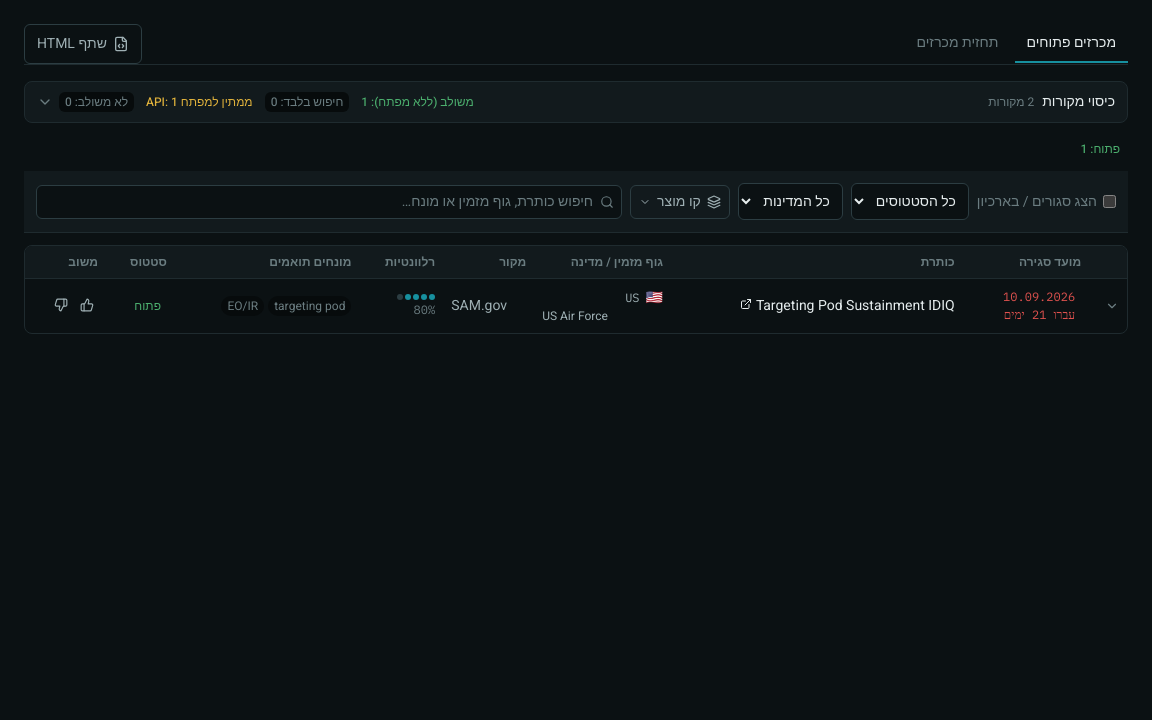
TendersPage — open tenders tab › expands a row on click to show the summary, entities, CPV/NAICS and a link to the linked item
Expected: the text "סיכום בעברית של המכרז" is not shown
Click the text "Targeting Pod Sustainment IDIQ" at (576, 306), box [25,278,1127,333]
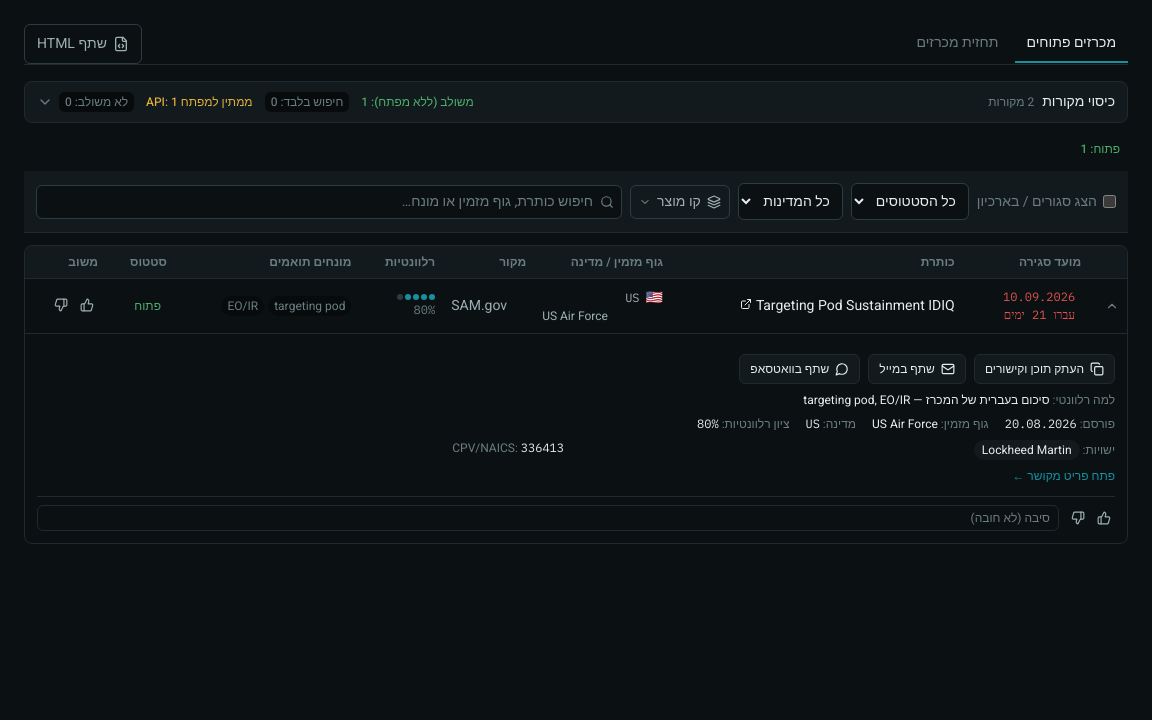
Now the text "targeting pod, EO/IR — סיכום בעברית של המכרז" is shown, box [803,391,1050,409]
Now the text "Lockheed Martin" is shown, box [982,441,1072,459]
Now the text "336413" is shown, box [521,440,564,455]
Click the text "Targeting Pod Sustainment IDIQ" at (576, 306), box [25,278,1127,334]
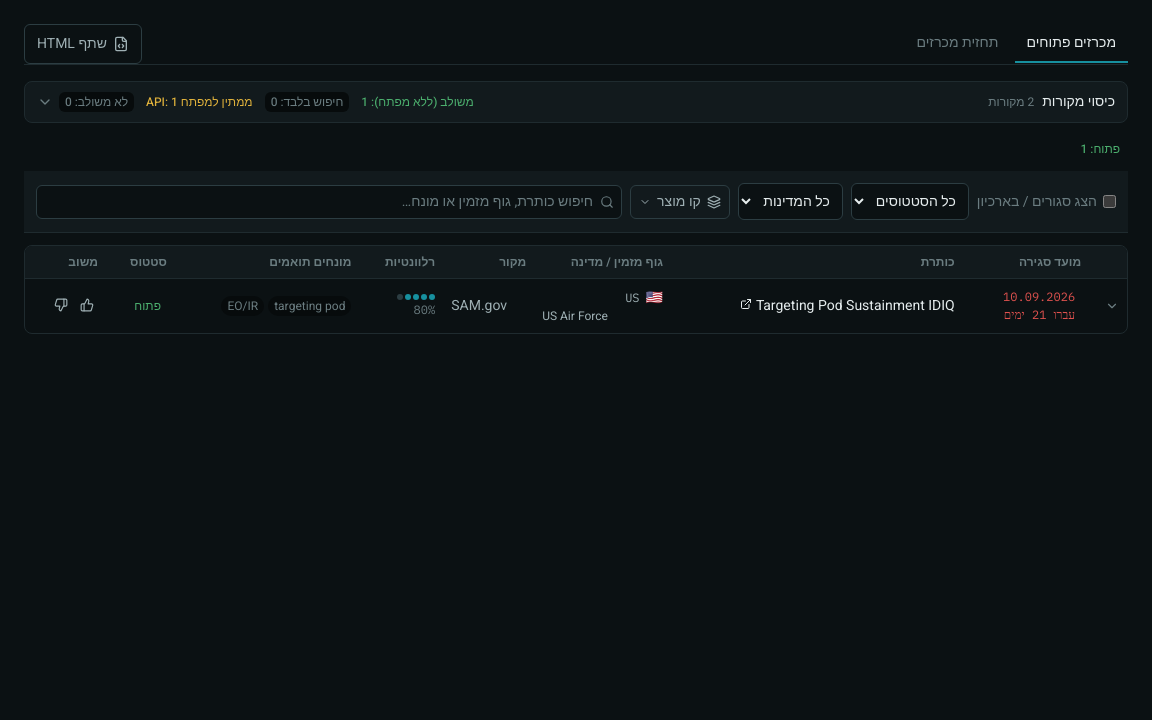
Now the text "סיכום בעברית של המכרז" is gone
